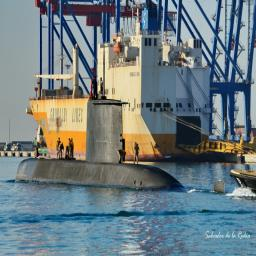submarine: (17, 99, 187, 189)
